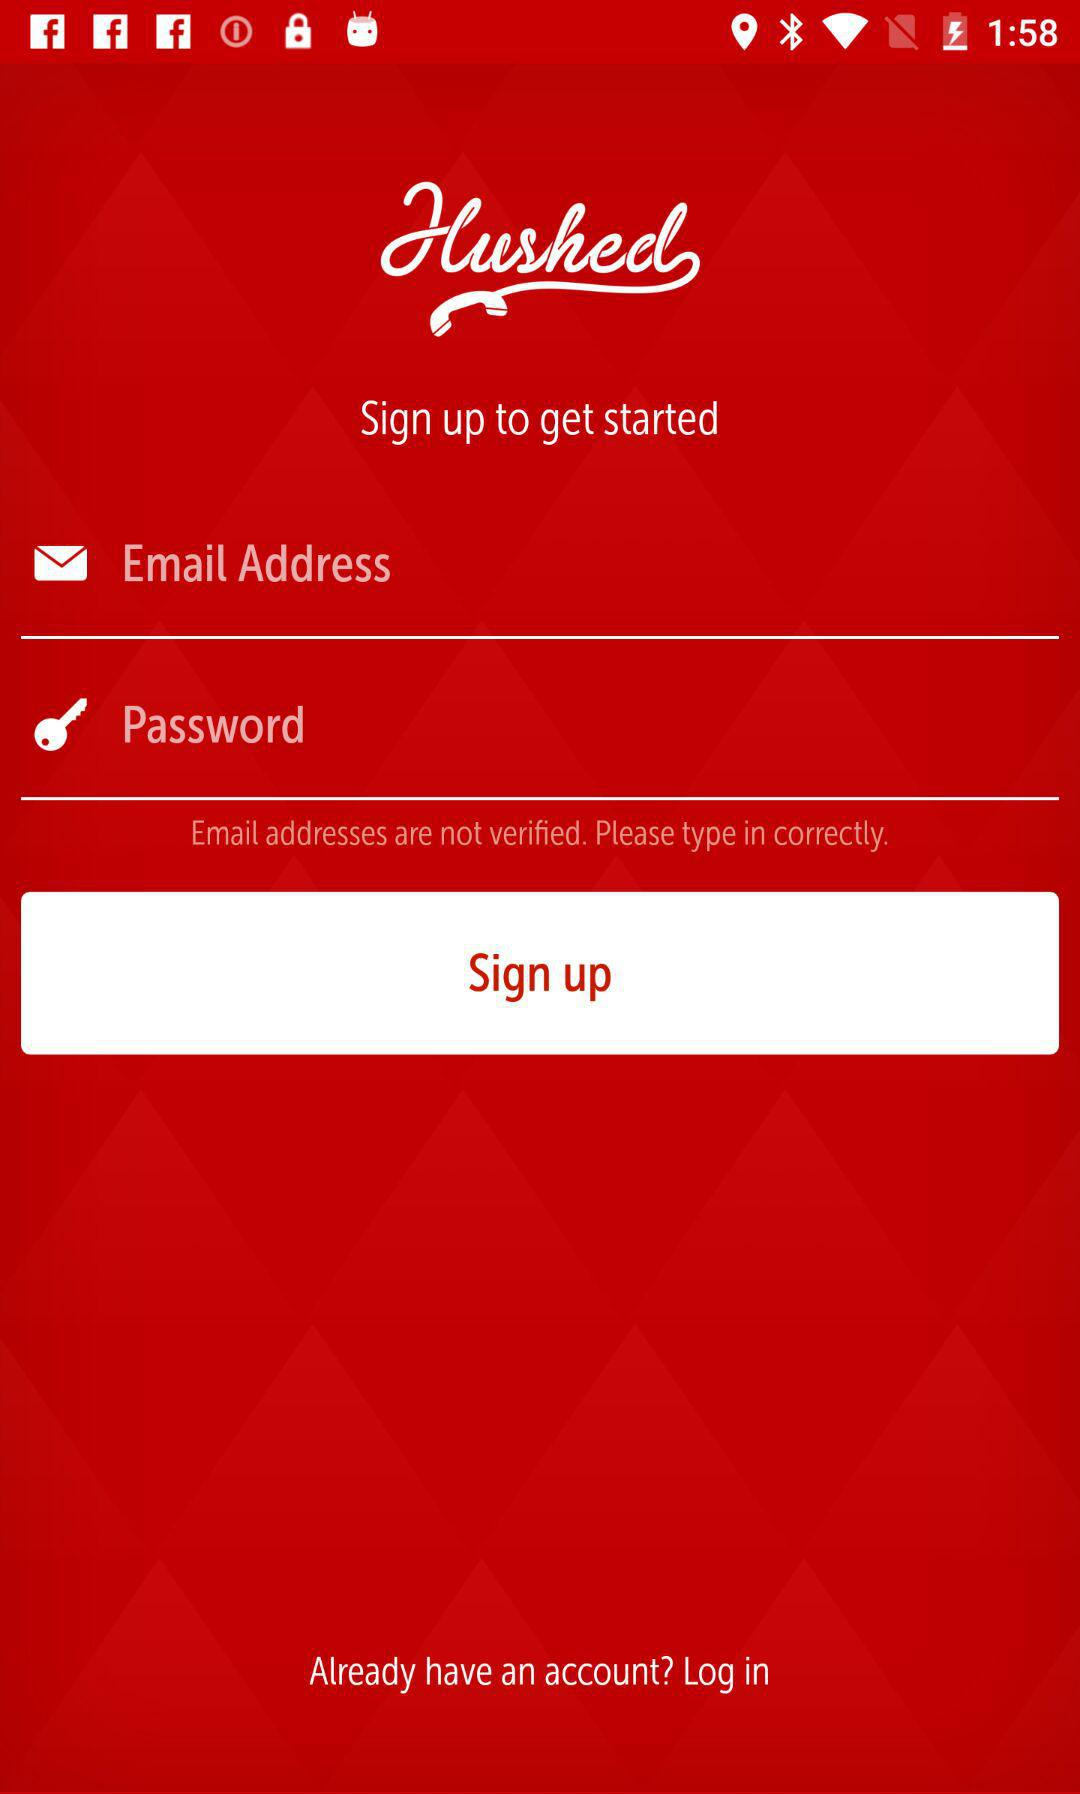EditText: (20, 697, 1060, 802), (20, 543, 1060, 641)
Icon: (35, 546, 88, 583)
Image: (379, 181, 702, 340), (35, 698, 88, 753)
Text: (192, 819, 888, 853), (309, 1654, 770, 1697), (360, 399, 719, 448), (126, 545, 392, 584), (126, 706, 305, 745)
TextButton: (20, 892, 1060, 1056)
UpperTaskBar: (1, 1, 1080, 64)
